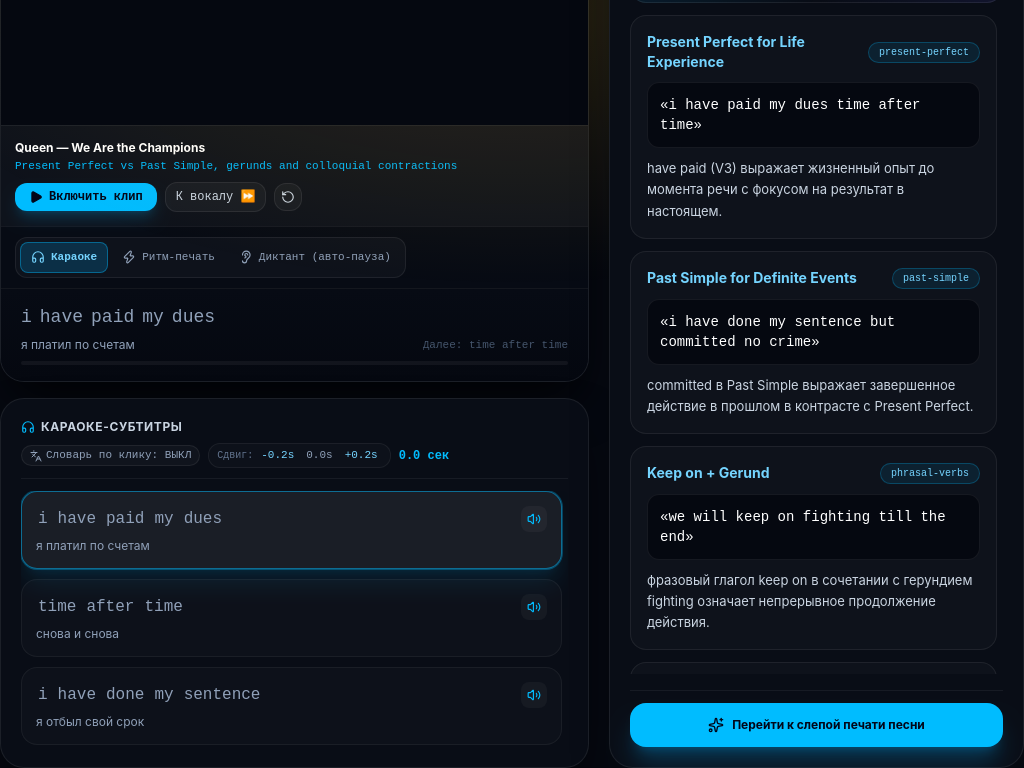
Test: Criterion 8: Component Rendering and User Interactions › MusicClipsView: enables click-to-translate on karaoke lyrics and opens WordPopover
(page scrolled)
Step 1. Click the button with test id "lyrics-translate-mode-btn" → (111,456), box [21,445,200,466]
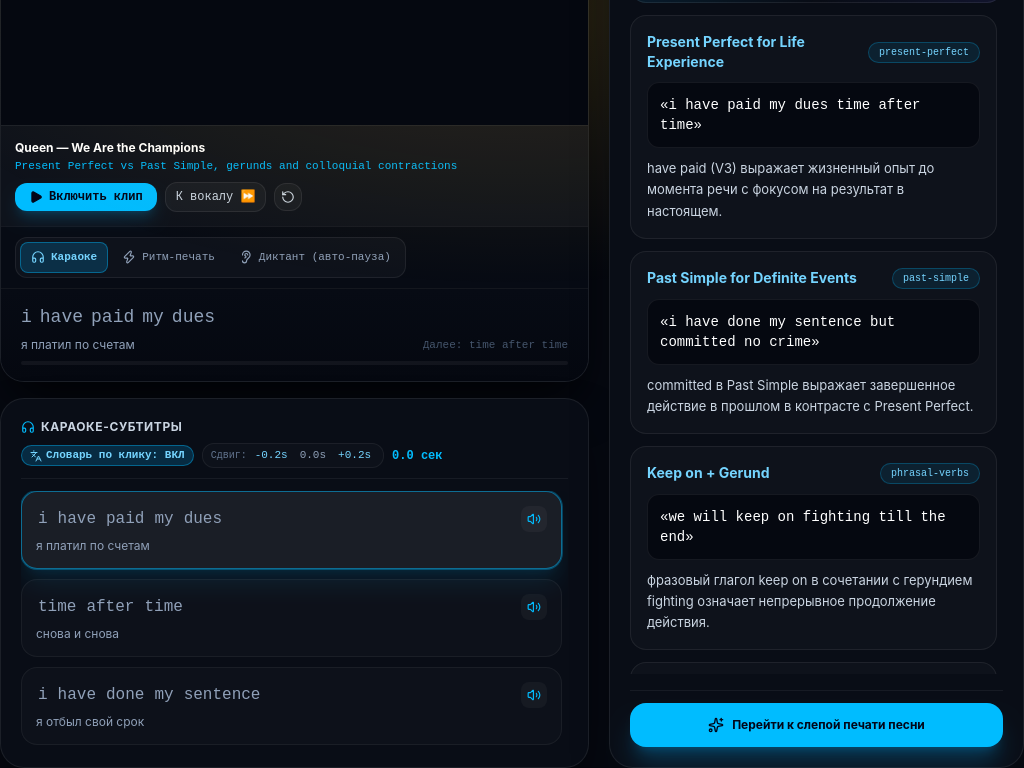
Step 2. Click the text with test id "lyric-word-1-dues" → (203,519), box [182,506,224,532]
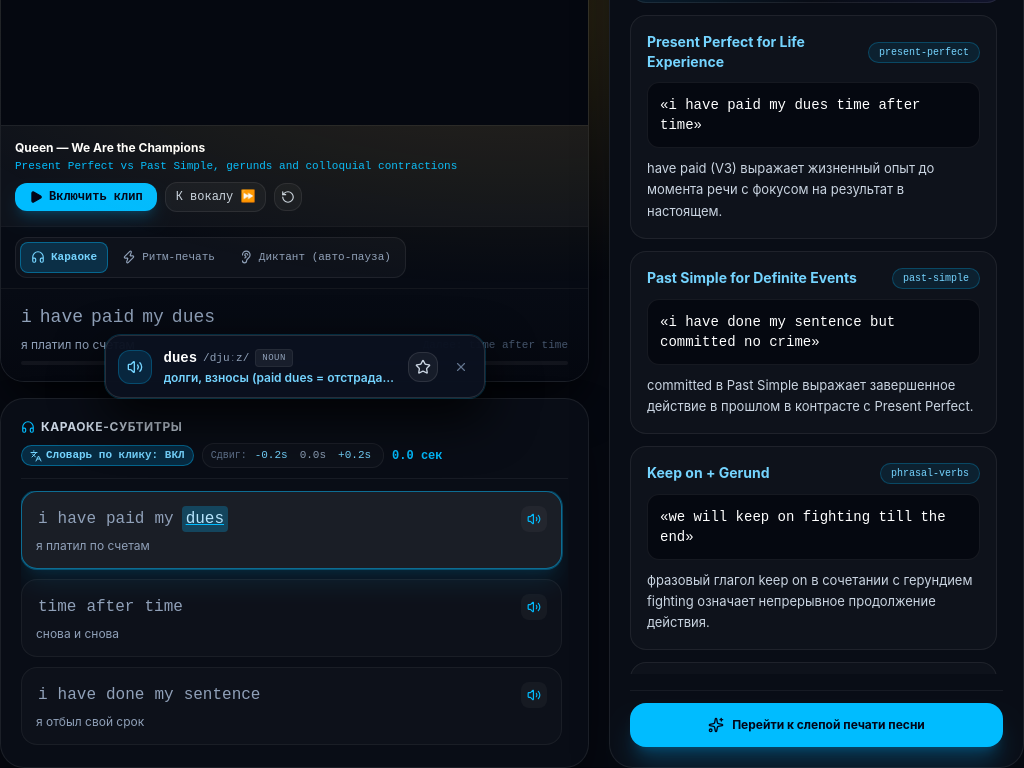
Result: the element with test id "word-popover" is shown at [104,335,484,398]
Result: the element with test id "word-popover" shows "долги" at [164,370,425,385]
